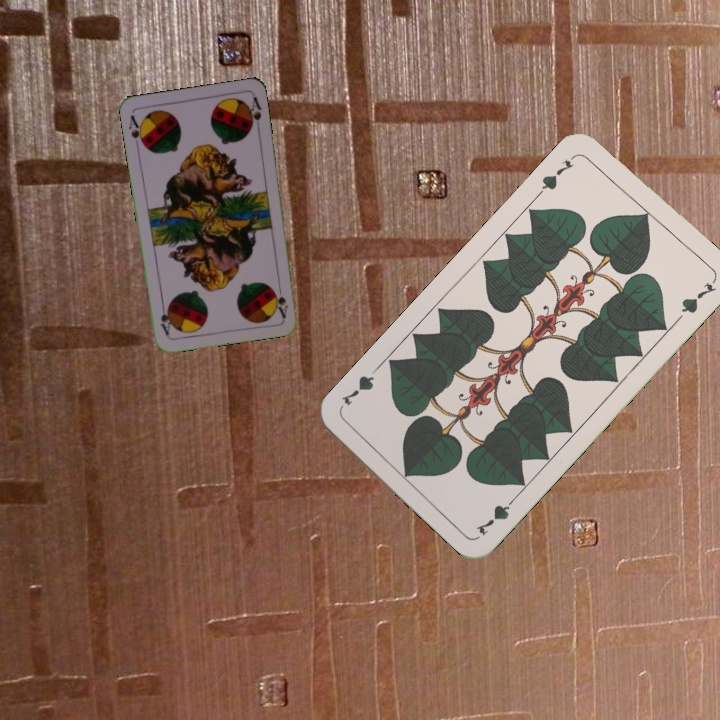G7: (471, 491, 521, 538), (534, 155, 576, 198)
SA: (125, 111, 148, 150), (272, 279, 290, 320)
